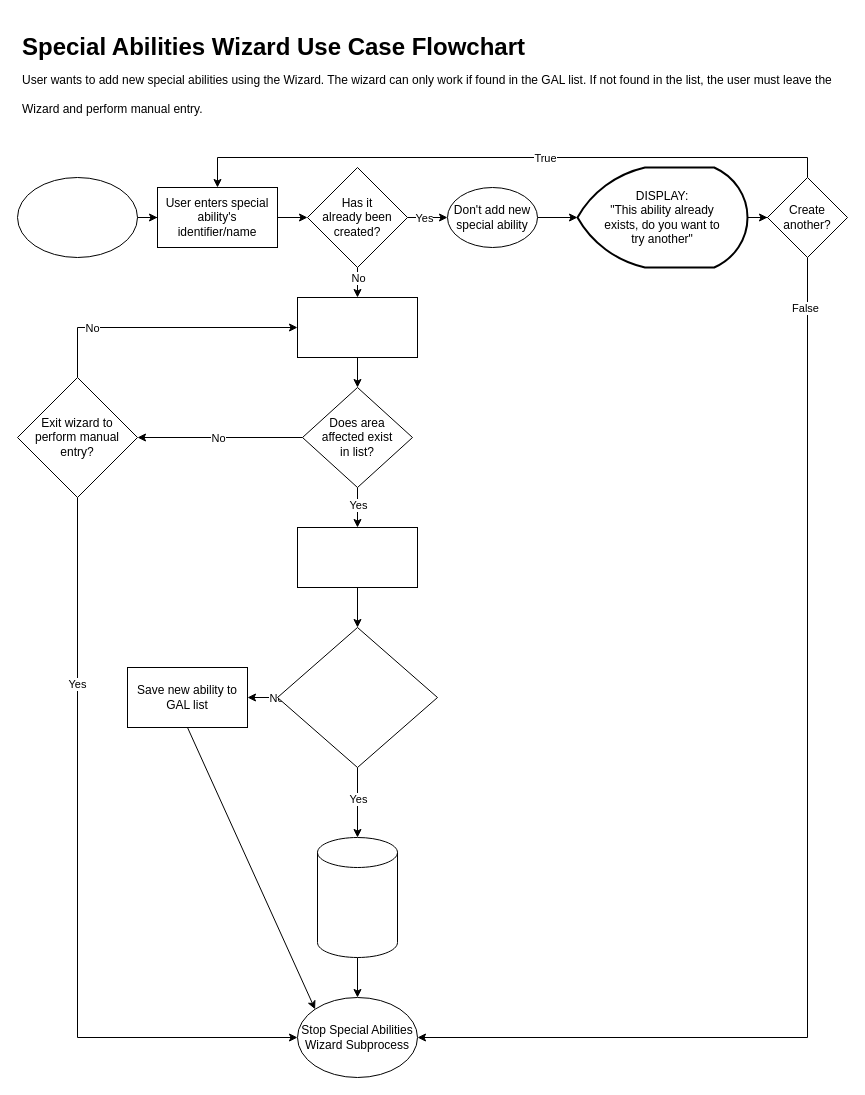
This 865x1095 diagram has some shape labels left out. The centre of each missing label's shape, as x and y in pixels:
Add ability to character sheet and GAL list: the point at 357,897
Select attributes, skills, or other areas affected: the point at 357,327
Select what it allows character to do: the point at 357,557
Start (user wants to add new special ability using Wizard): the point at 77,217
Was wizard invoked from character sheet?: the point at 357,697
